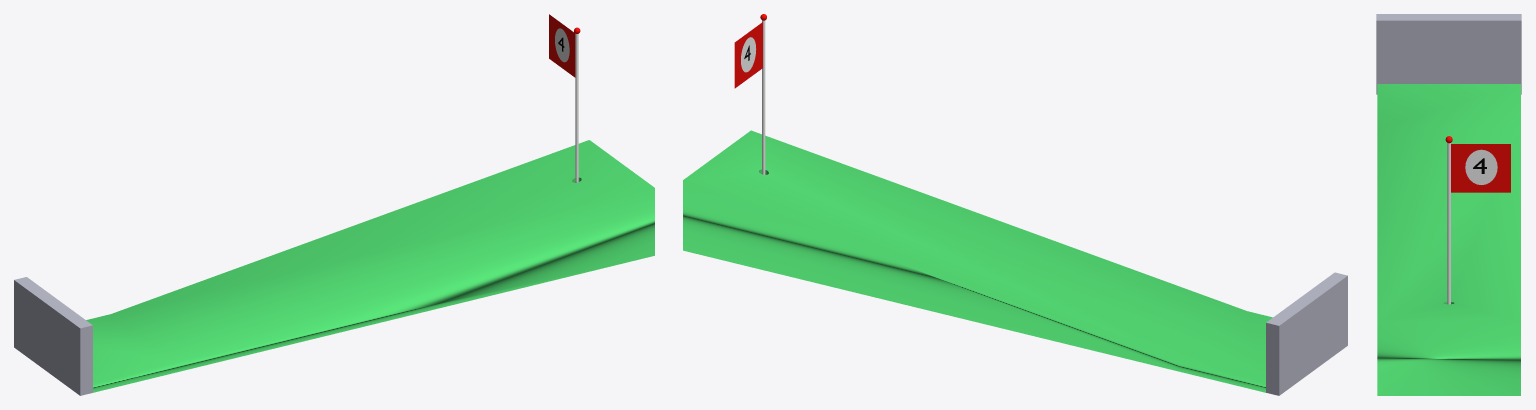
The model's file is mindrebane4.fbx.
3 renders of one model, left to right at view 1: azimuth 30°, elevation 25°; view 2: azimuth 150°, elevation 25°; view 3: azimuth 270°, elevation 25°, orthographic. The views are drawn at different scales.
Visible parts, largest first — view 1: bane, Cube, Cube.001, Cylinder.003; view 2: bane, Cube, Cube.001, Cylinder.003; view 3: bane, Cube, Cube.001, Circle.003, Cylinder.003.
Boxes of the visible parts, x1,y1,x2,y2 form: bane: (86,140,654,392); Cube: (14,277,92,395); Cube.001: (549,14,575,77); Cylinder.003: (575,34,578,182); bane: (683,130,1272,392); Cube: (1266,272,1347,395); Cube.001: (734,22,762,88); Cylinder.003: (762,20,765,174); bane: (1377,84,1520,395); Cube: (1376,14,1521,94); Cube.001: (1451,144,1510,192); Circle.003: (1465,149,1497,184); Cylinder.003: (1447,143,1450,304).
Size of the model in its own units: 405 by 145 by 80.86.
